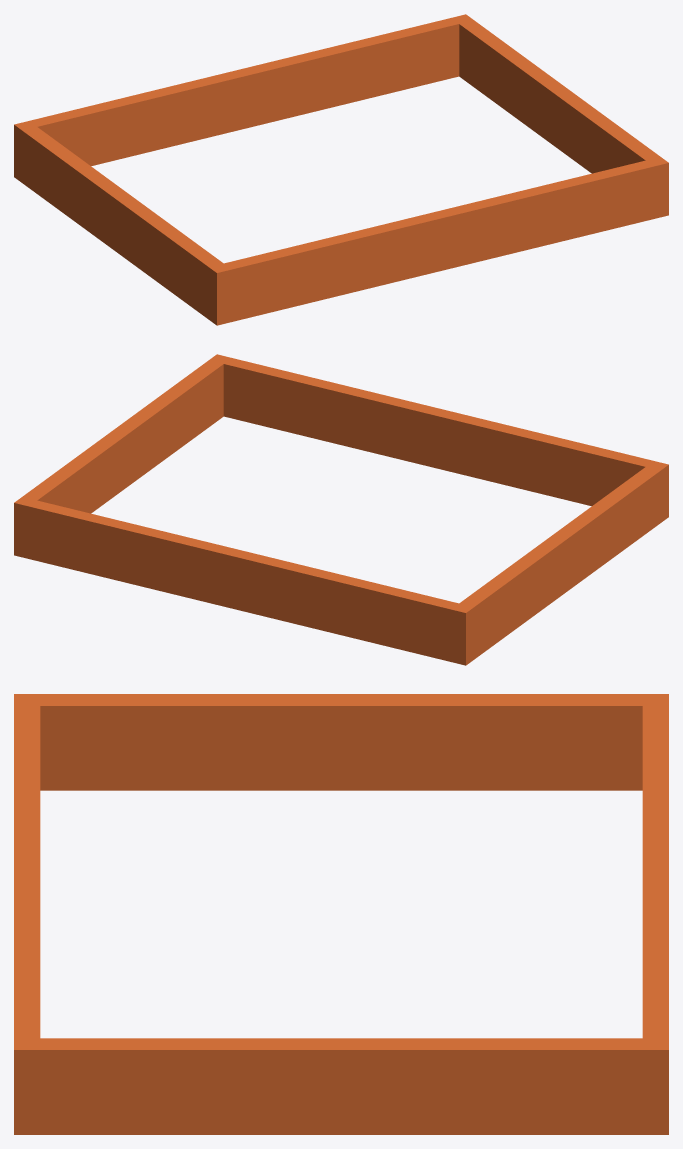
File: Walls.fbx
3 views of the same model, one above another, from view 1: azimuth 30°, elevation 25°; view 2: azimuth 150°, elevation 25°; view 3: azimuth 270°, elevation 25° (orthographic). The views are drawn at different scales.
Parts seen in each view (by area): view 1: Walls; view 2: Walls; view 3: Walls.
Boxes of the visible parts, box(x1,y1,x2,y2) form: Walls: box(14, 14, 668, 325); Walls: box(14, 354, 668, 665); Walls: box(14, 694, 668, 1134).
Bounding box in the file's own units: 1800 × 200 × 1400.
